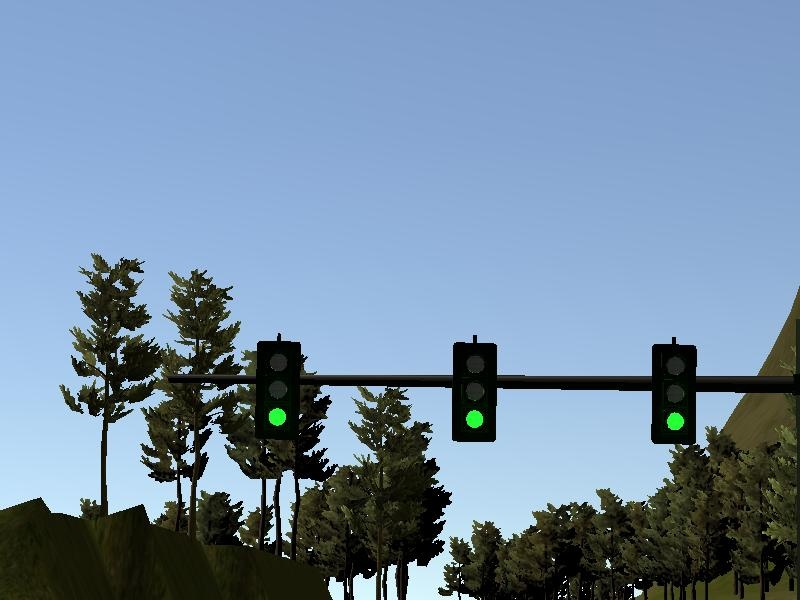GREEN: (650, 343, 697, 445), (452, 341, 496, 444), (258, 341, 298, 436)
